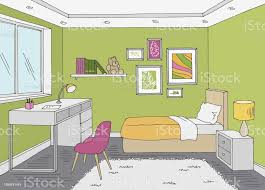Bed: (120, 85, 233, 155)
Chair: (70, 118, 114, 179)
Lamp: (230, 96, 260, 137), (53, 80, 77, 105)
Table: (8, 93, 96, 175)
